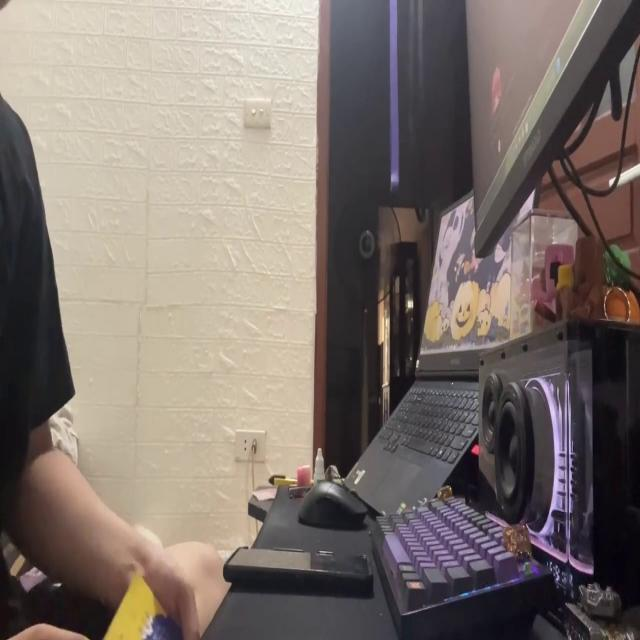book: (99, 568, 187, 640)
laptop: (351, 169, 540, 513), (464, 0, 640, 259)
phone: (224, 540, 378, 600)
student: (0, 92, 230, 640)
